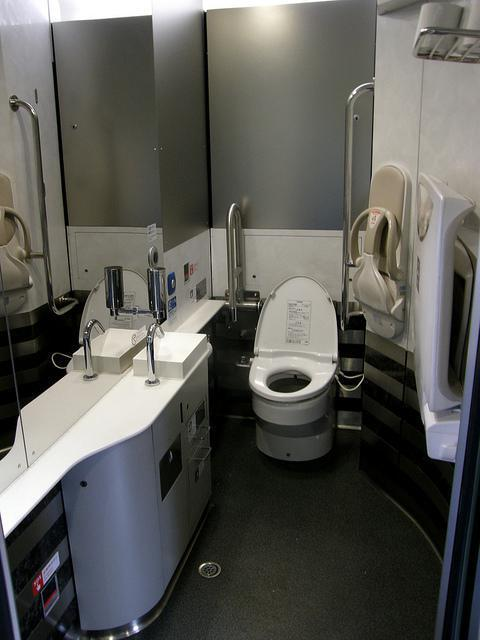Lavamanos: (130, 316, 221, 395)
Sanitario: (247, 271, 345, 460)
